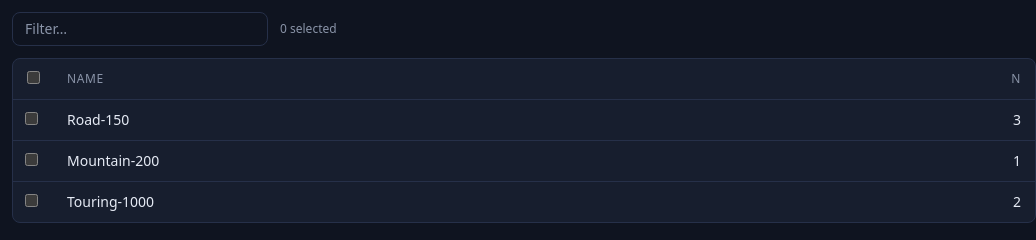
Scenario: DataTable › sorts by header click, filters and multi-selects
Click the button "N" at coordinates (1016, 79), box [1011,71,1021,87]
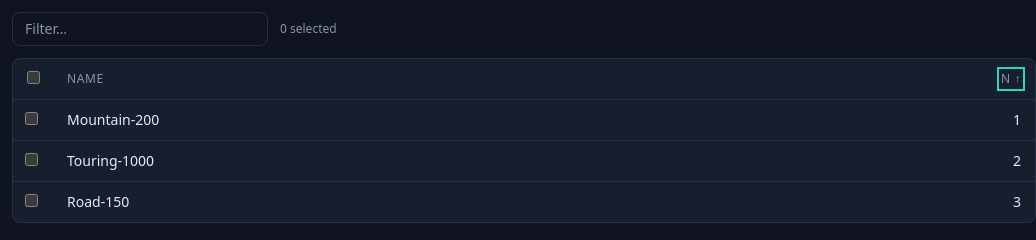
Click the button "N ↑" at coordinates (1011, 79), box [1001,71,1021,87]
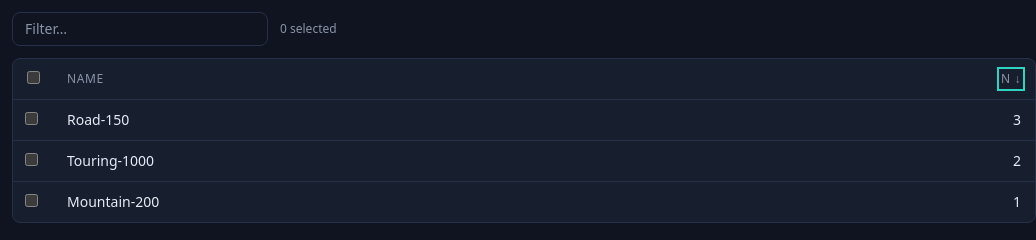
Expected: the cell "Road-150" is shown, [53,100,754,140]
Click the checkbox named "Select all" at coordinates (33, 78), box [26,71,40,84]
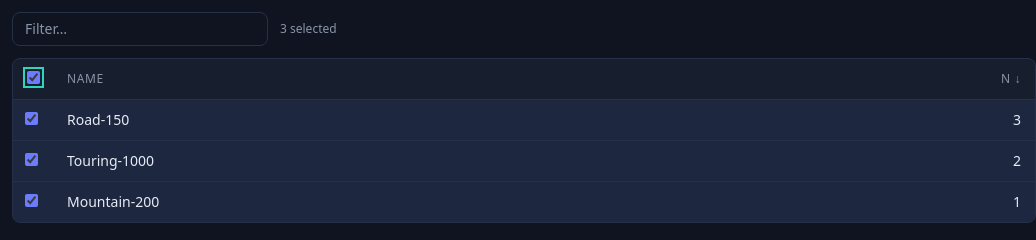
Expected: the text with test id "selected-count" reads "3 selected", [280,21,337,37]
Type "zzz" into the field named "Filter rows" at coordinates (140, 29), box [12,12,268,46]
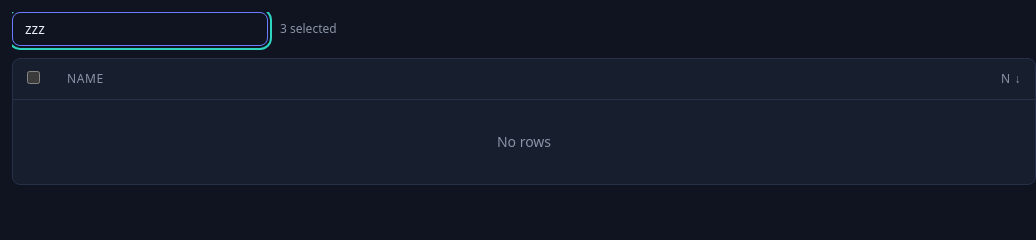
Expected: the text "No rows" is shown, [13,100,1035,184]
